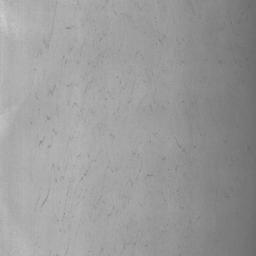Silk spot: (41, 189, 50, 207), (43, 37, 51, 49), (48, 84, 56, 96)
